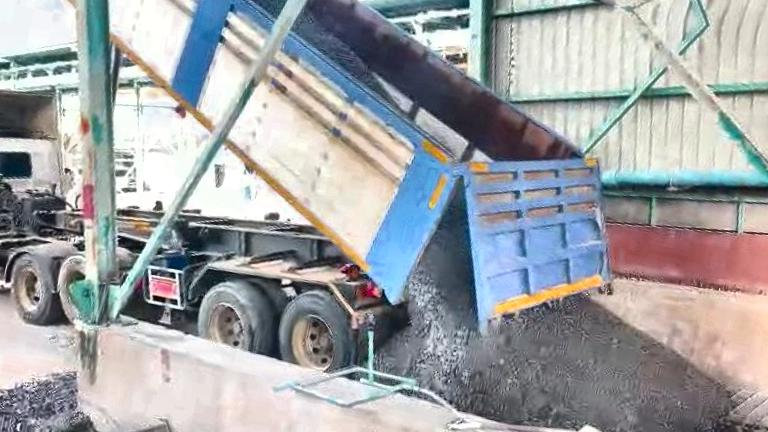gravel: (376, 199, 731, 432), (295, 10, 393, 103), (0, 374, 90, 432), (158, 0, 288, 16)
